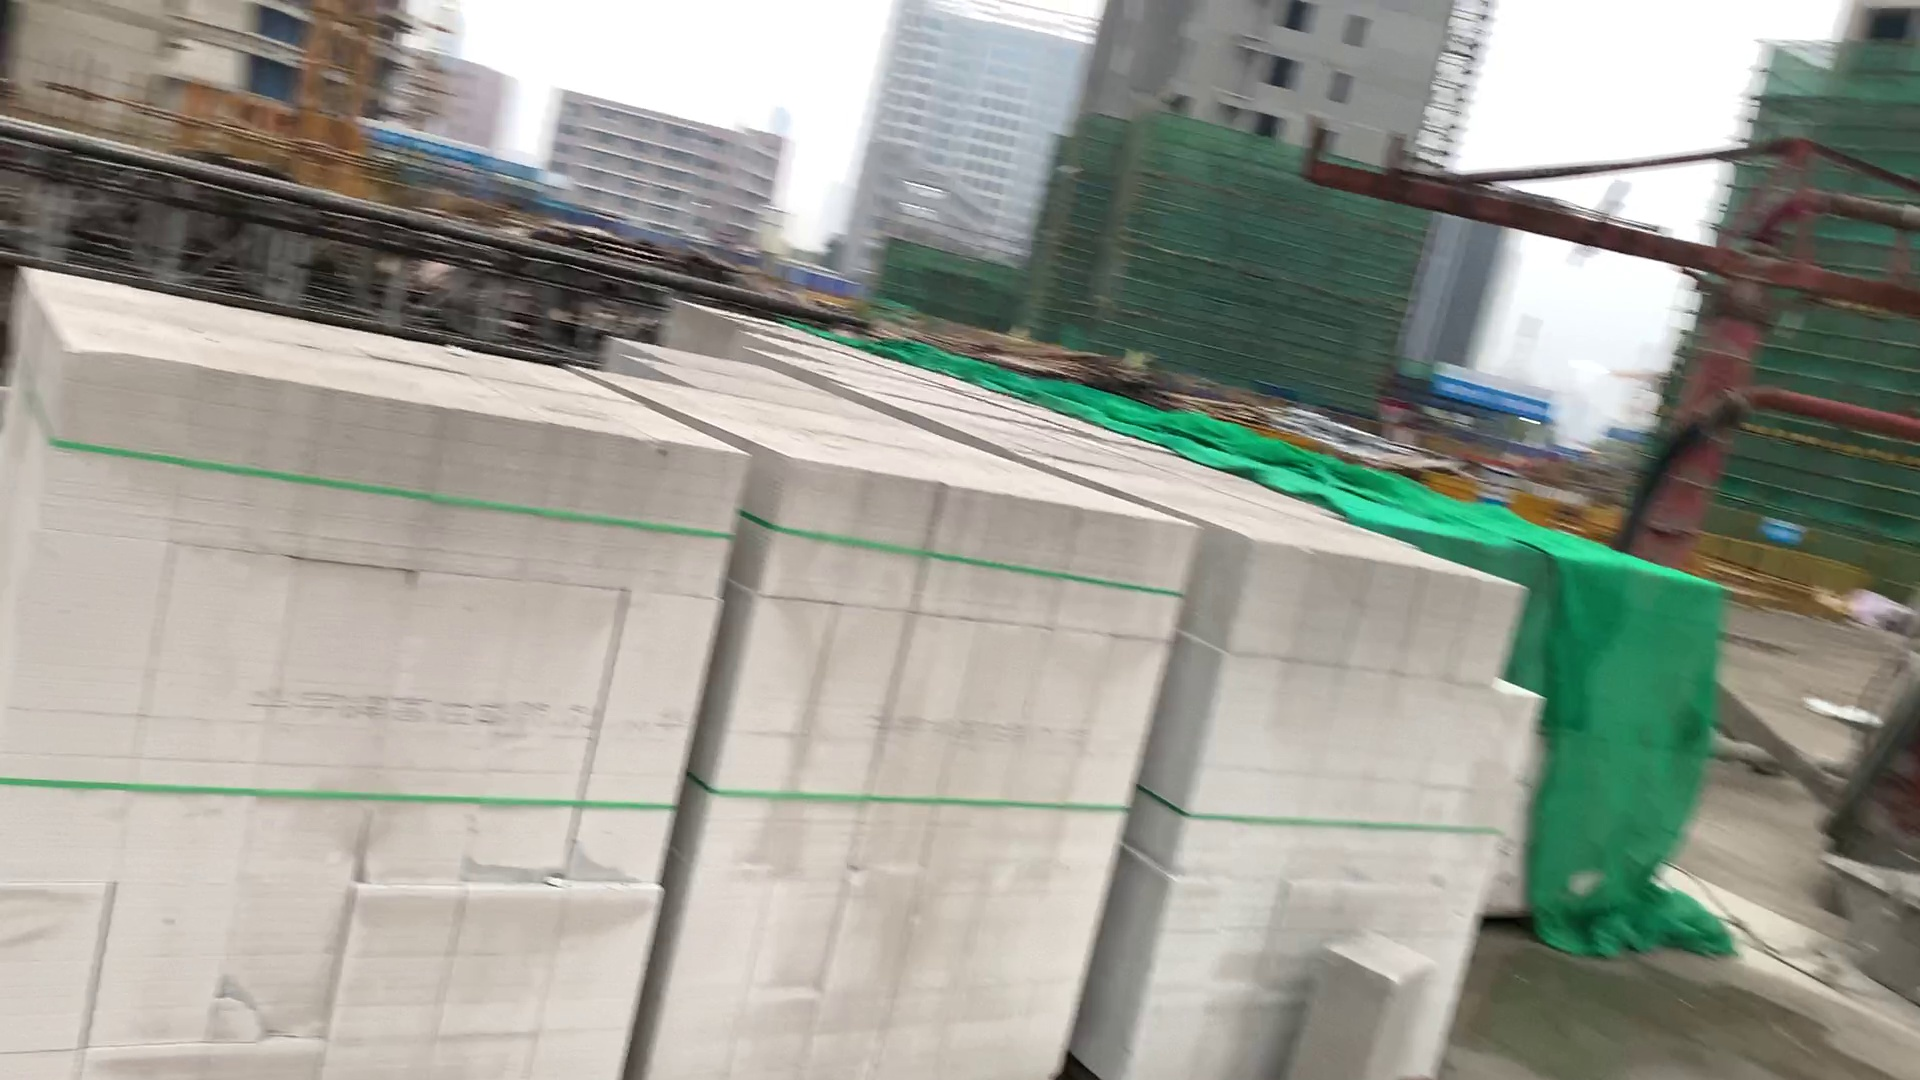brickwork: (26, 338, 651, 1080), (731, 448, 1151, 1080), (1200, 512, 1513, 1080)
